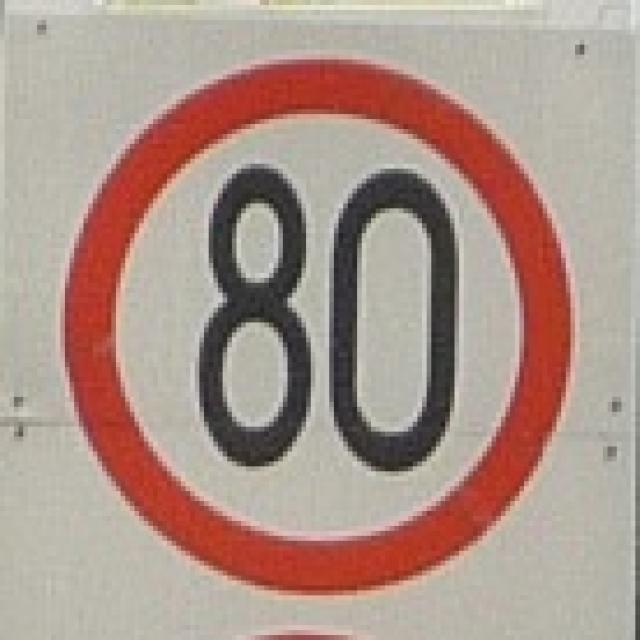Speed Limit -80-: (187, 165, 461, 478)
